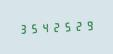five: (61, 19, 71, 33), (28, 21, 38, 34)
four: (39, 20, 49, 34)
nine: (83, 18, 93, 32)
three: (17, 22, 27, 35)
two: (50, 20, 60, 33), (72, 19, 82, 32)
